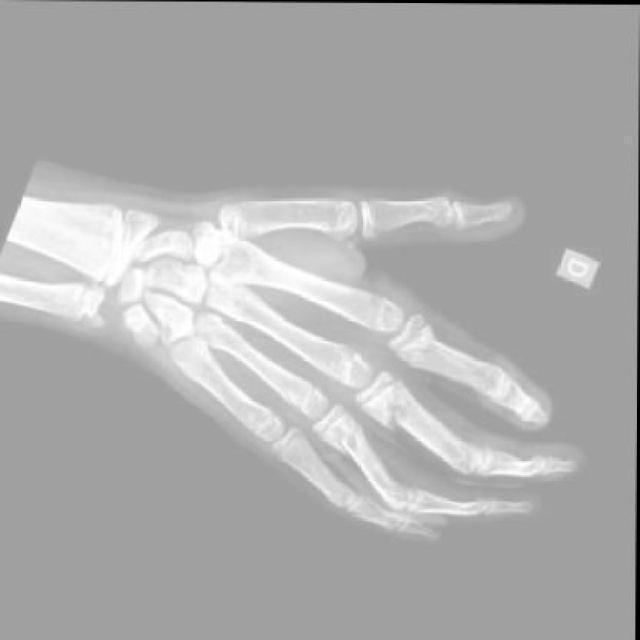bone: (334, 418, 376, 462), (376, 383, 416, 427), (406, 335, 442, 371)
